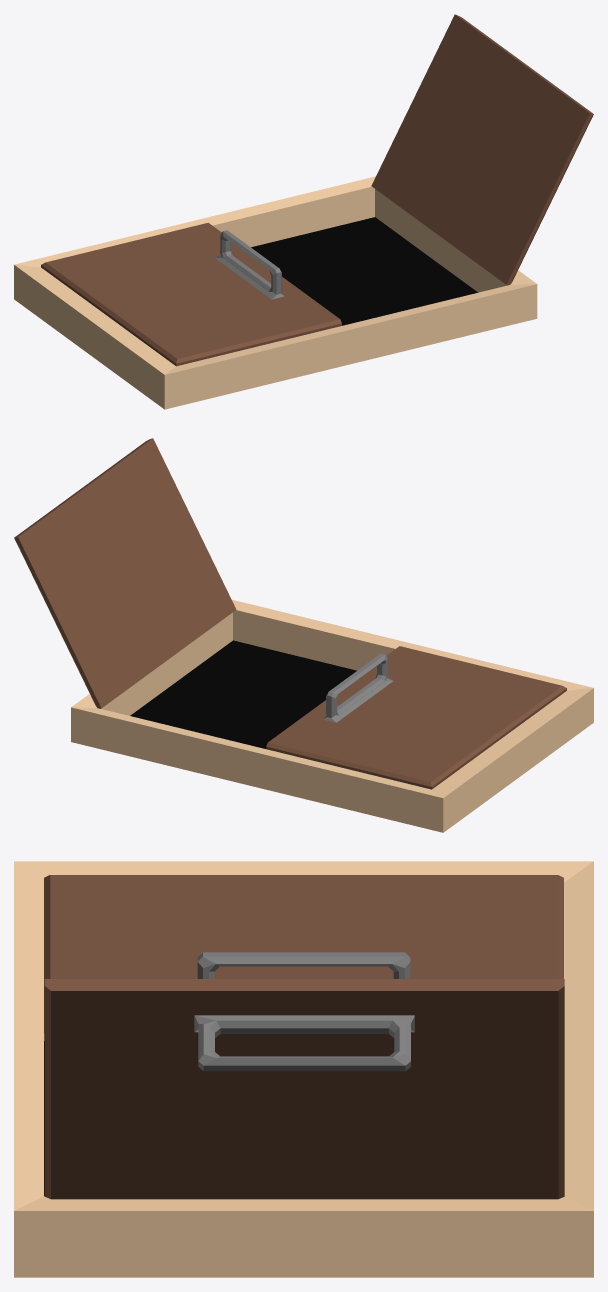
Rendered from porao1.fbx.
The picture shows the model from 3 angles, top to bottom: view 1: azimuth 30°, elevation 25°; view 2: azimuth 150°, elevation 25°; view 3: azimuth 270°, elevation 25°; orthographic projection. The views are drawn at different scales.
Visible parts, largest first — view 1: Cube.003, Cube.001; view 2: Cube.003, Cube.001; view 3: Cube.003, Cube.001.
Boxes of the visible parts, x1,y1,x2,y2 form: Cube.003: (14,176,537,409); Cube.001: (371,14,593,285); Cube.003: (71,599,593,832); Cube.001: (14,438,236,708); Cube.003: (14,861,593,1277); Cube.001: (44,979,564,1199).
Size of the model in its own units: 86.38 by 33.92 by 50.13.
